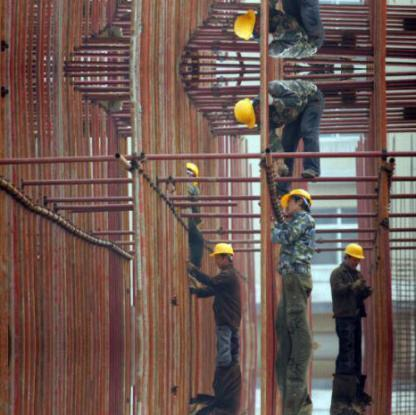helmet: (226, 92, 259, 132), (276, 184, 313, 218), (179, 155, 203, 187), (338, 240, 367, 266), (206, 238, 232, 264)
